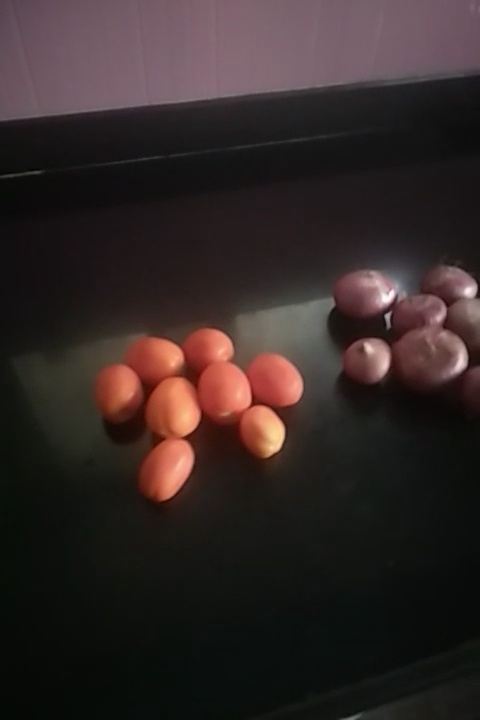onion: (394, 329, 458, 393), (336, 271, 396, 313), (385, 292, 443, 333), (419, 261, 479, 300), (337, 335, 388, 380), (446, 298, 480, 345)
tomato: (137, 426, 202, 509), (230, 351, 306, 409), (195, 364, 250, 431), (143, 371, 197, 437), (119, 326, 183, 379), (99, 361, 140, 419), (244, 409, 290, 460), (185, 329, 232, 366)
